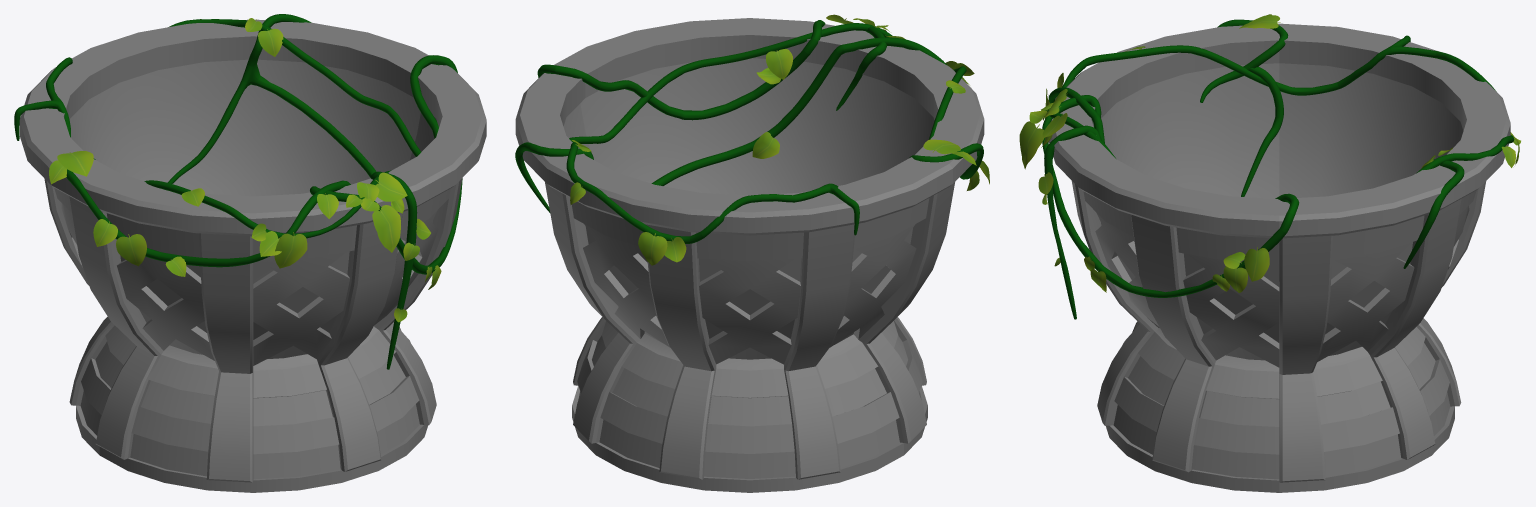
File: Inter_Basket.fbx
3 views of the same model, side by side, from view 1: azimuth 30°, elevation 25°; view 2: azimuth 150°, elevation 25°; view 3: azimuth 270°, elevation 25° (orthographic).
Visible parts, largest first — view 1: Basket, BasketVine, Plane_Low.024, Plane_Low.036, Plane_Low.042, Plane_Low.040, Plane_Low.025, Plane_Low.049, Plane_Low.044; view 2: Basket, BasketVine, Plane_Low.051, Plane_Low.058, Plane_Low.056; view 3: Basket, BasketVine, Plane_Low.024, Plane_Low.045.
Boxes of the visible parts, bbox=[...] form: Basket: bbox=[19, 19, 486, 492]; BasketVine: bbox=[14, 14, 462, 369]; Plane_Low.024: bbox=[372, 205, 400, 252]; Plane_Low.036: bbox=[274, 232, 307, 268]; Plane_Low.042: bbox=[116, 234, 146, 266]; Plane_Low.040: bbox=[57, 151, 93, 176]; Plane_Low.025: bbox=[375, 172, 407, 201]; Plane_Low.049: bbox=[258, 28, 283, 56]; Plane_Low.044: bbox=[93, 219, 117, 246]; Basket: bbox=[515, 18, 984, 492]; BasketVine: bbox=[515, 20, 983, 243]; Plane_Low.051: bbox=[638, 232, 667, 265]; Plane_Low.058: bbox=[766, 49, 792, 79]; Plane_Low.056: bbox=[752, 132, 779, 158]; Basket: bbox=[1049, 23, 1510, 492]; BasketVine: bbox=[1042, 19, 1514, 319]; Plane_Low.024: bbox=[1019, 121, 1043, 169]; Plane_Low.045: bbox=[1244, 247, 1269, 281].
Size of the model in its own units: 152 by 109 by 158.
